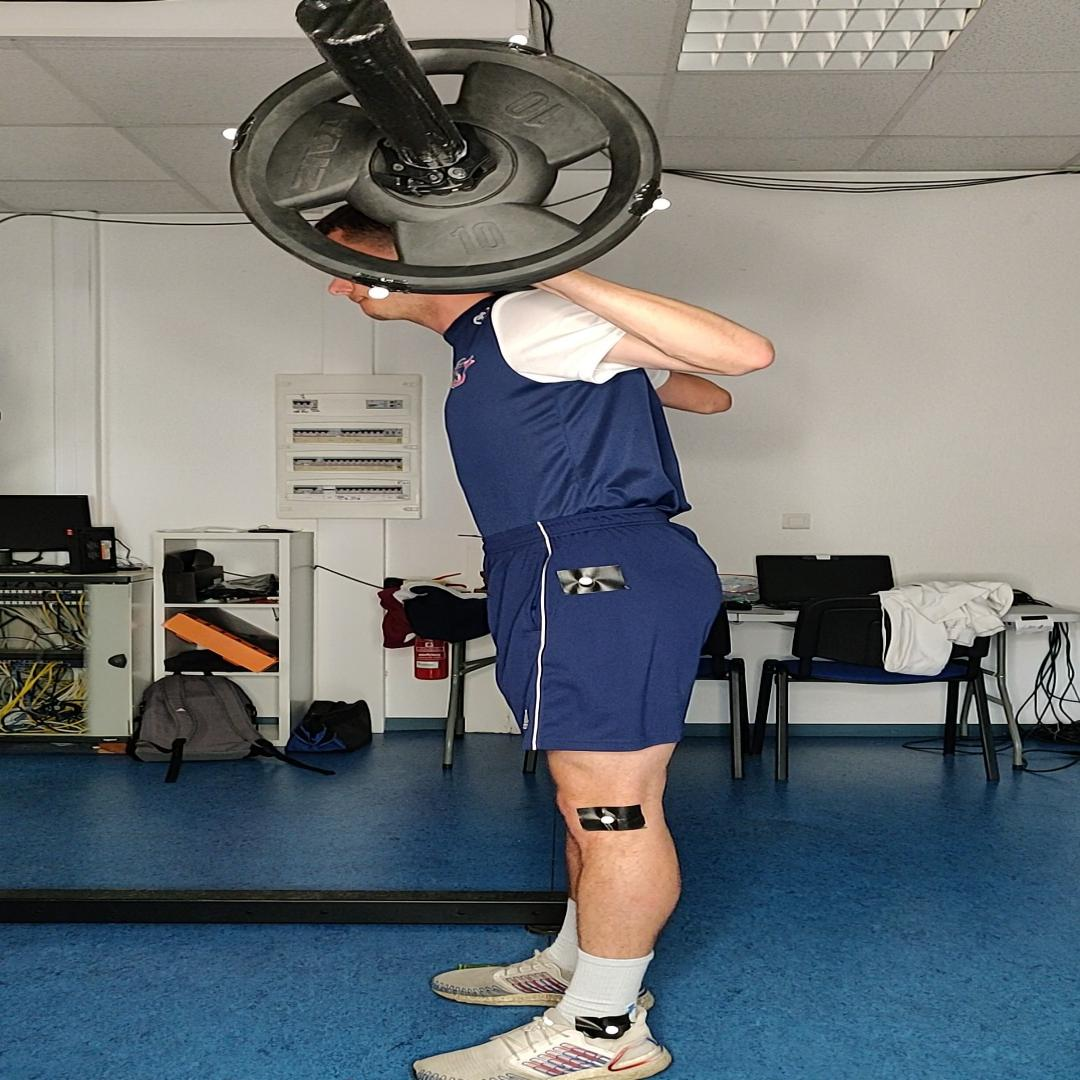Bar: (295, 0, 394, 46)
Barbell: (231, 38, 661, 294)
